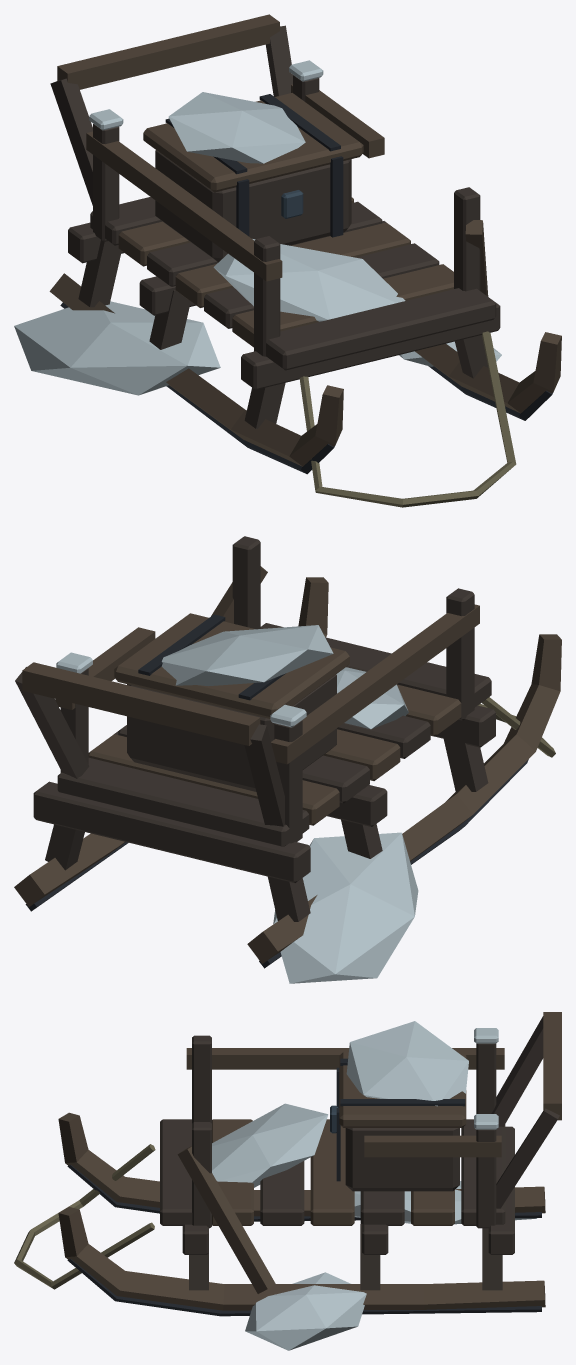
File: Abandoned_Sled.glb
3 renders of one model, top to bottom at view 1: azimuth 30°, elevation 25°; view 2: azimuth 150°, elevation 25°; view 3: azimuth 270°, elevation 25°, orthographic. The views are drawn at different scales.
Visible parts, largest first — view 1: Abandoned_Sled; view 2: Abandoned_Sled; view 3: Abandoned_Sled.
Boxes of the visible parts, bbox=[...] form: Abandoned_Sled: bbox=[14, 14, 561, 507]; Abandoned_Sled: bbox=[14, 536, 561, 983]; Abandoned_Sled: bbox=[14, 1012, 561, 1350].
Bounding box in the file's own units: 2.31 × 1.62 × 3.55.
